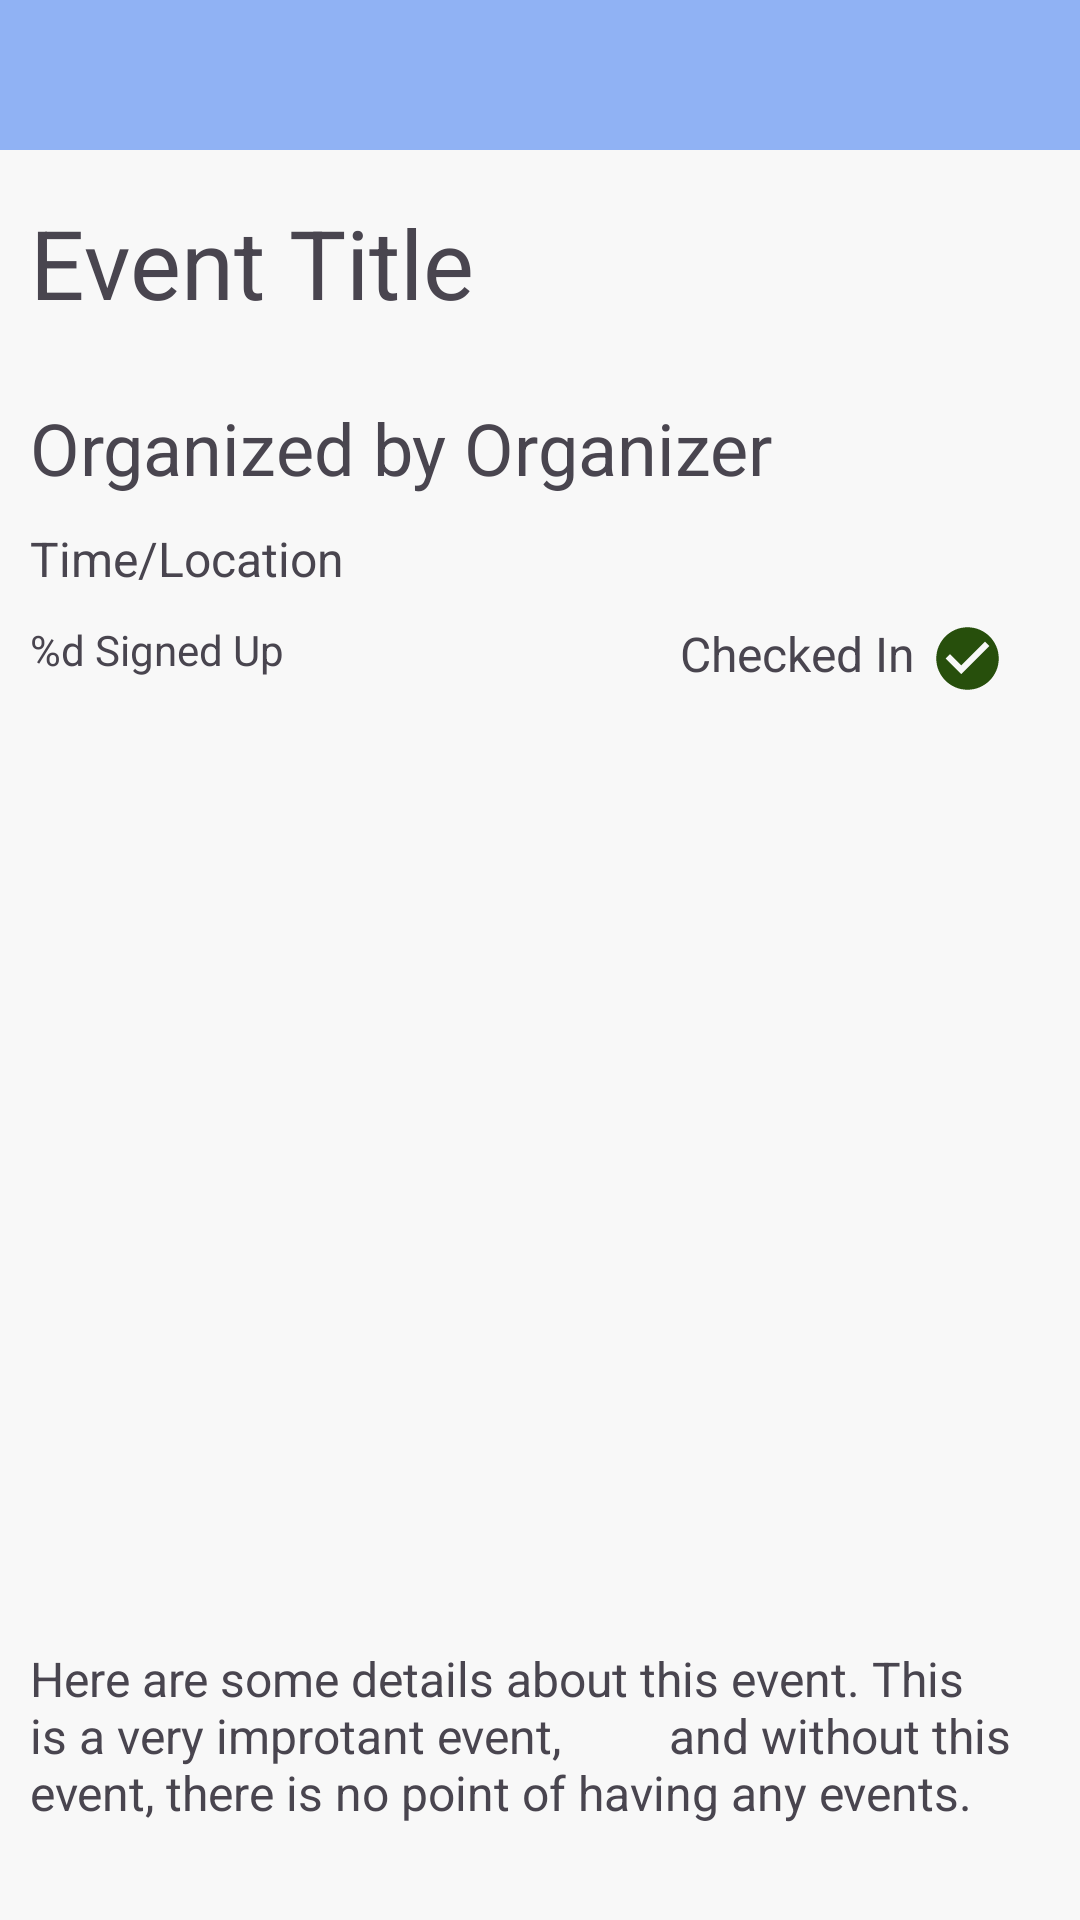

Icons on this 1080*1920 Android screen, each with the point to tap as (x,y):
check circle: (967,658)
